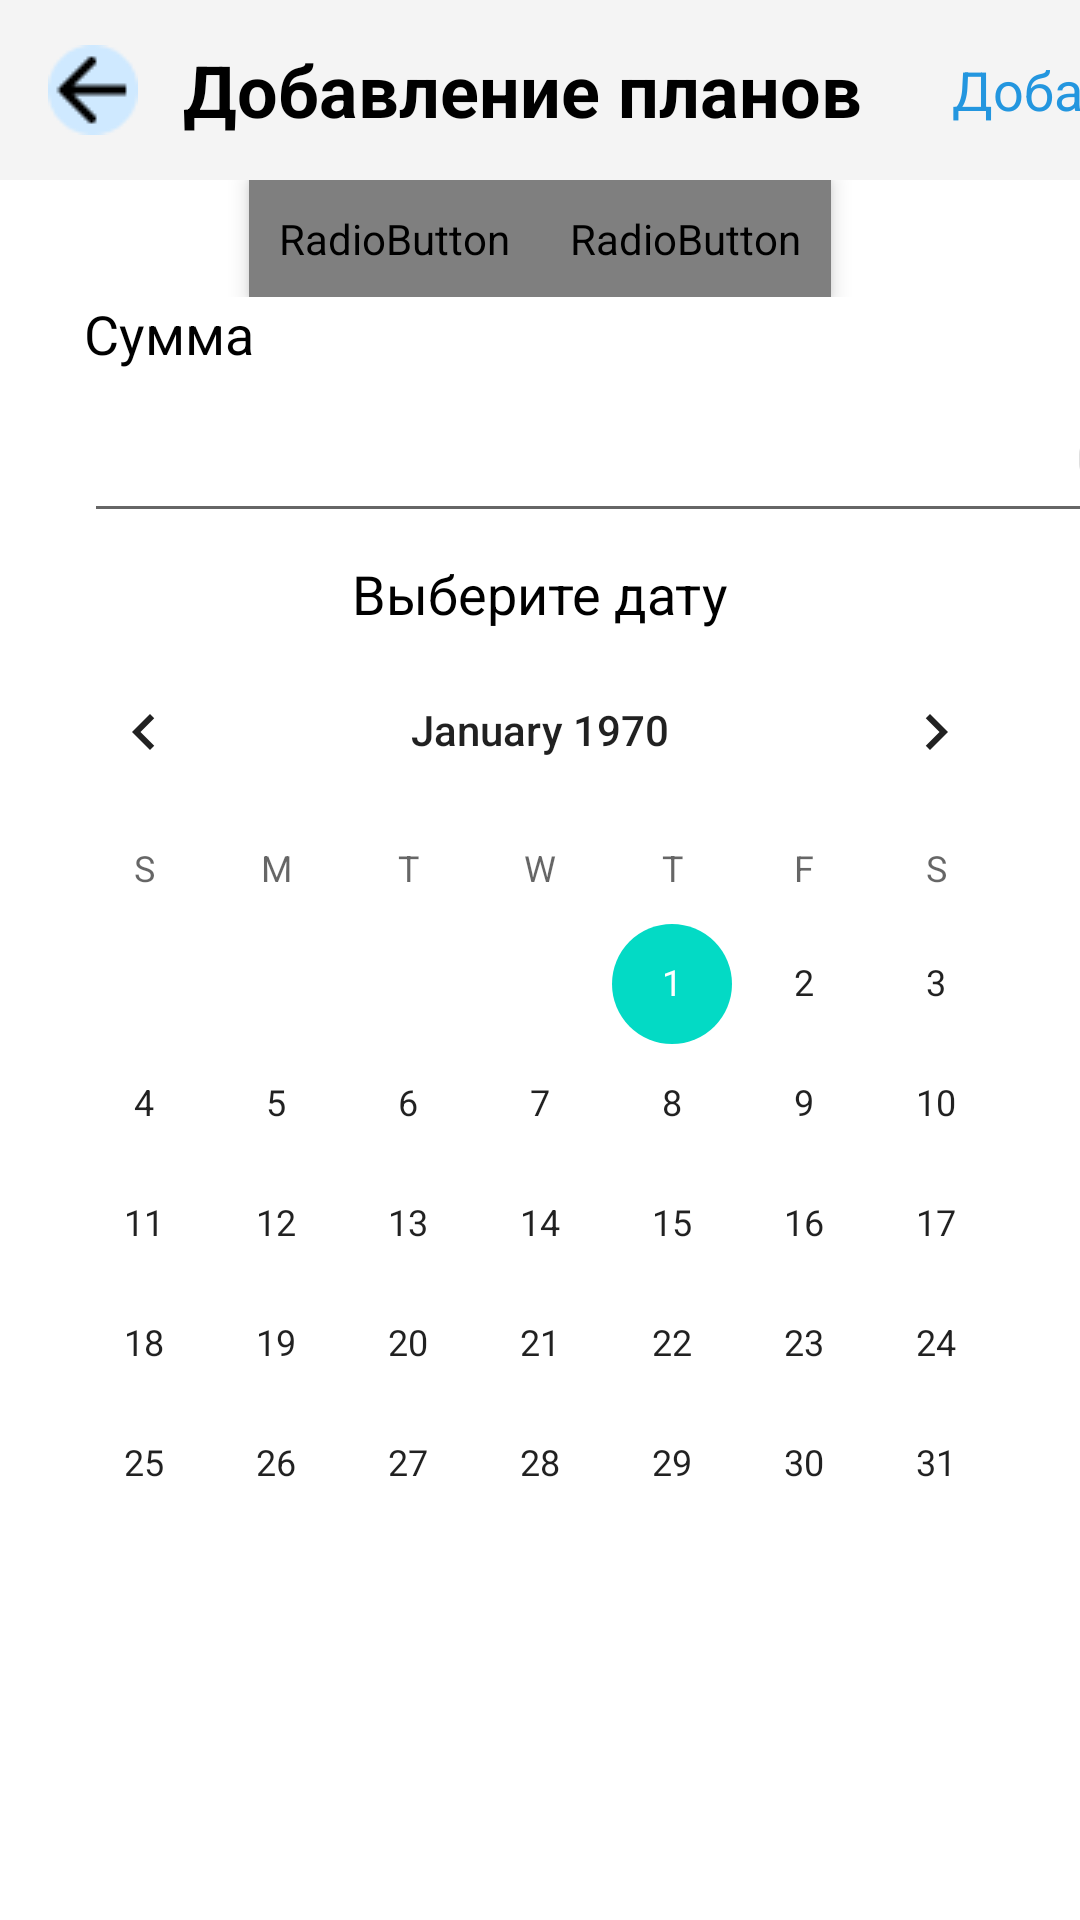

Icon bounding boxes for this 1080 × 1920 phone screenshot, format (left=x1, top=y1, right=x2, bottom=y2):
buttonback: (left=48, top=45, right=138, bottom=135)
